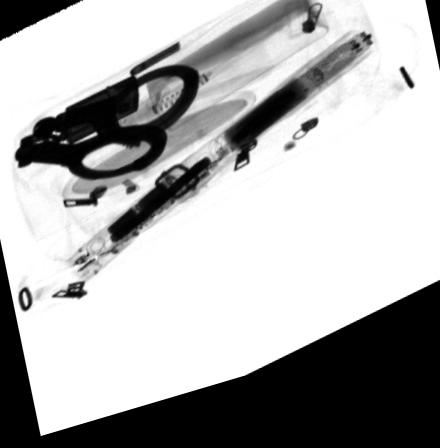Baton: (61, 49, 372, 288)
HandCuffs: (9, 73, 198, 185)
Lighter: (62, 82, 137, 148)
